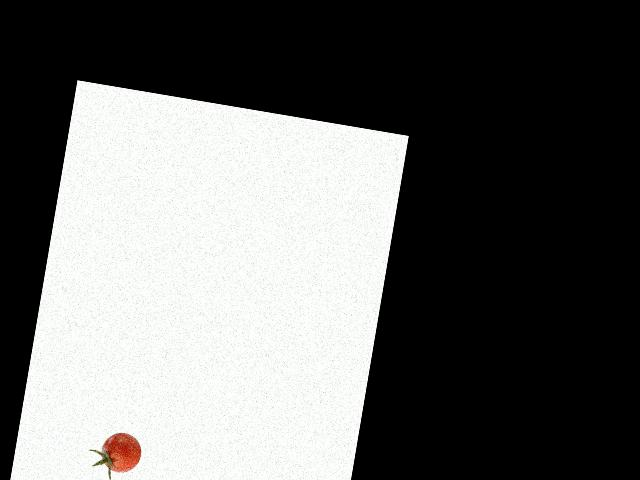tomato: (99, 429, 144, 474)
